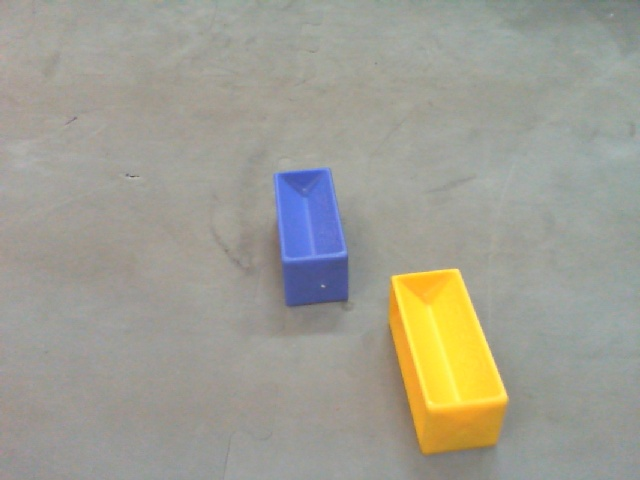BlueSample: (270, 166, 355, 309)
YellowSample: (386, 266, 513, 456)
